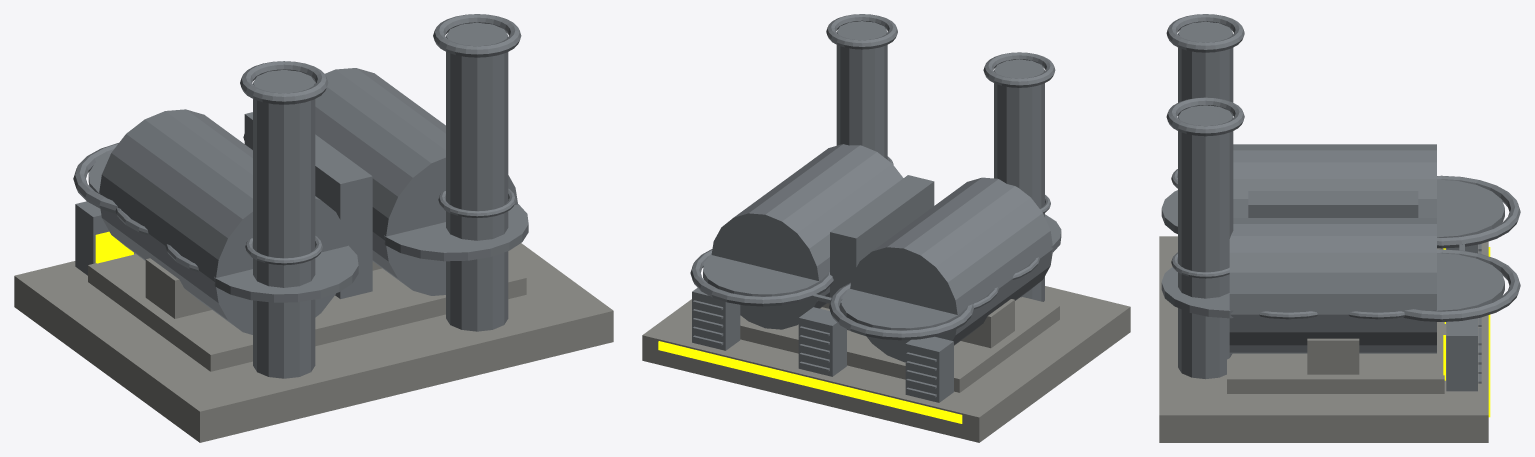
The model's file is crimson_turbine_station.glb.
3 renders of one model, left to right at view 1: azimuth 30°, elevation 25°; view 2: azimuth 150°, elevation 25°; view 3: azimuth 270°, elevation 25°, orthographic. The views are drawn at different scales.
Parts seen in each view (by area): view 1: CrimsonTurbineStation; view 2: CrimsonTurbineStation; view 3: CrimsonTurbineStation.
Part boxes in pixels (bbox=[...]): CrimsonTurbineStation: bbox=[14, 14, 613, 442]; CrimsonTurbineStation: bbox=[642, 14, 1130, 442]; CrimsonTurbineStation: bbox=[1159, 14, 1520, 442].
Size of the model in its own units: 3.6 by 2.66 by 3.07.
